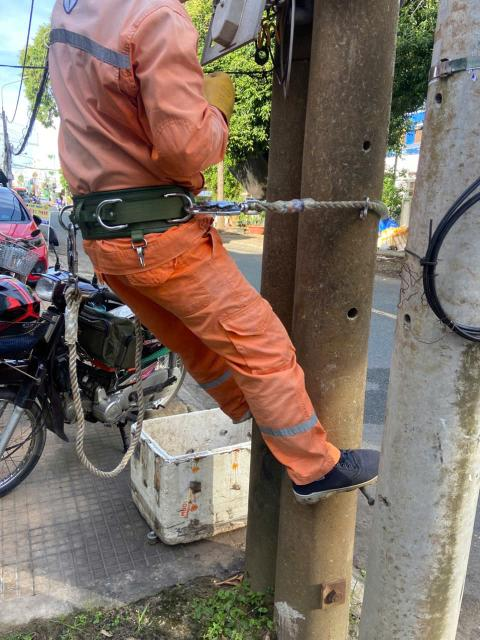gloves: (195, 46, 252, 124)
harness: (39, 171, 223, 242)
shoes: (282, 442, 400, 498)
